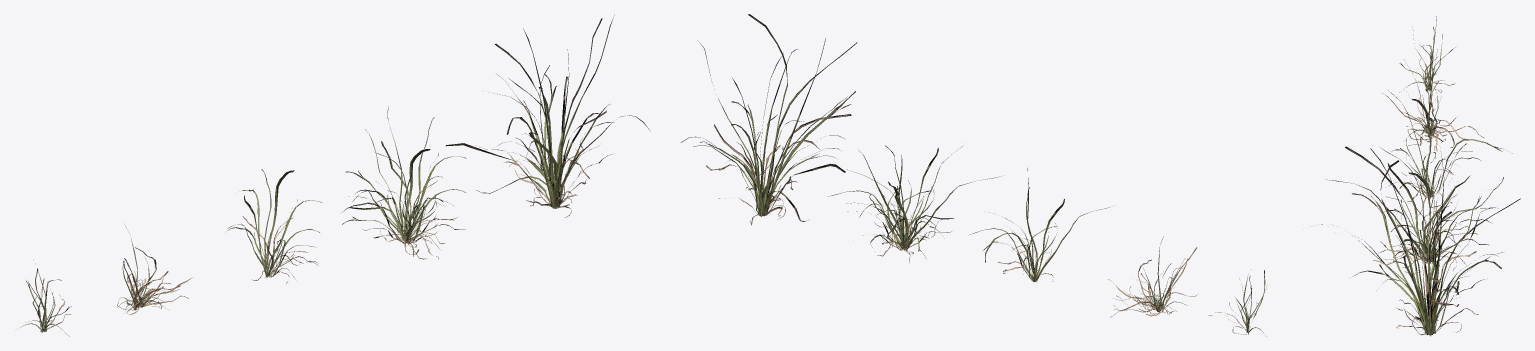
Rendered from grass_medium_02.glb.
3 renders of one model, left to right at view 1: azimuth 30°, elevation 25°; view 2: azimuth 150°, elevation 25°; view 3: azimuth 270°, elevation 25°, orthographic. The views are drawn at different scales.
Parts seen in each view (by area): view 1: grass_medium_02_e, grass_medium_02_d, grass_medium_02_c, grass_medium_02_b, grass_medium_02_a; view 2: grass_medium_02_e, grass_medium_02_d, grass_medium_02_c, grass_medium_02_b, grass_medium_02_a; view 3: grass_medium_02_e, grass_medium_02_d, grass_medium_02_c, grass_medium_02_b, grass_medium_02_a.
Boxes of the visible parts, left/top/right/bottom form: grass_medium_02_e: left=446, top=15, right=649, bottom=217; grass_medium_02_d: left=342, top=106, right=466, bottom=259; grass_medium_02_c: left=227, top=169, right=321, bottom=283; grass_medium_02_b: left=117, top=225, right=192, bottom=314; grass_medium_02_a: left=20, top=263, right=71, bottom=336; grass_medium_02_e: left=681, top=14, right=857, bottom=225; grass_medium_02_d: left=827, top=145, right=1000, bottom=262; grass_medium_02_c: left=969, top=168, right=1109, bottom=281; grass_medium_02_b: left=1108, top=236, right=1197, bottom=317; grass_medium_02_a: left=1209, top=270, right=1266, bottom=334; grass_medium_02_e: left=1310, top=146, right=1520, bottom=336; grass_medium_02_d: left=1326, top=143, right=1503, bottom=274; grass_medium_02_c: left=1388, top=90, right=1512, bottom=215; grass_medium_02_b: left=1382, top=49, right=1483, bottom=151; grass_medium_02_a: left=1399, top=16, right=1455, bottom=92.
Bounding box in the file's own units: 1.31 × 0.4053 × 0.4326.
1 material, 1 textured.
